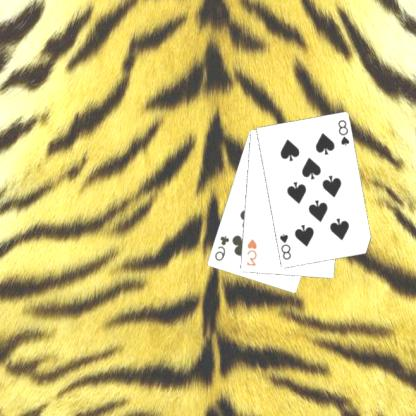3H: (246, 236, 260, 268)
8S: (278, 231, 294, 261), (337, 117, 352, 147)
9C: (214, 233, 232, 262)
